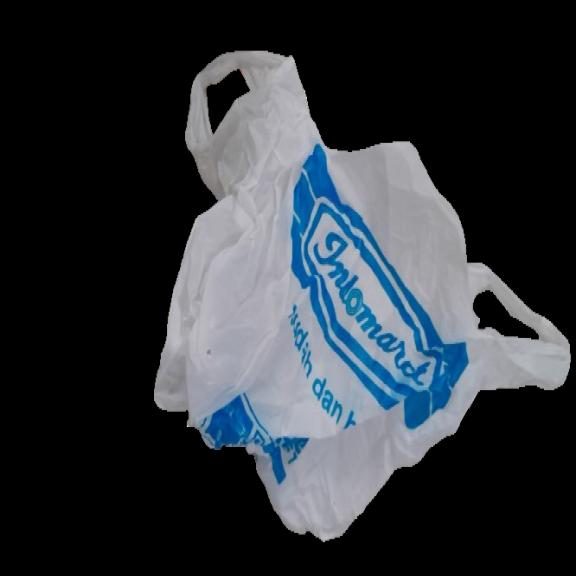Plastik: (150, 42, 572, 547)
